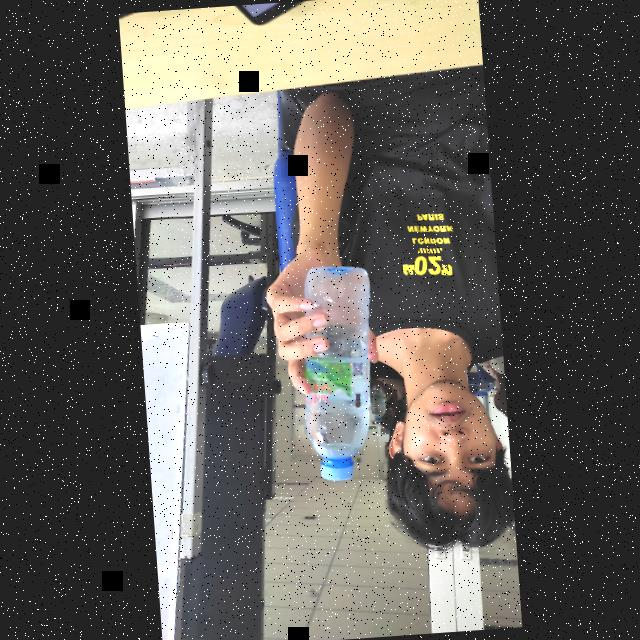plastic_bottle: (291, 263, 389, 488)
plastic_bottle_cap: (316, 456, 356, 484)
